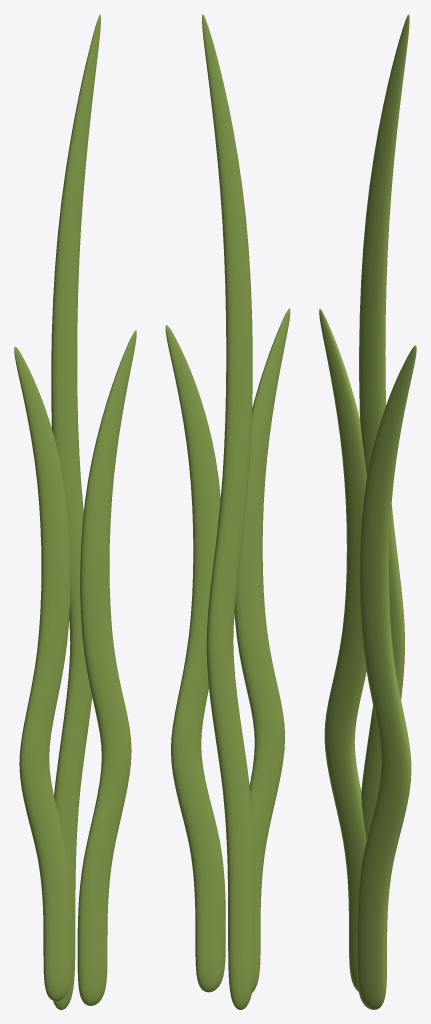
The model's file is kelp3-transformed.glb.
3 renders of one model, left to right at view 1: azimuth 30°, elevation 25°; view 2: azimuth 210°, elevation 25°; view 3: azimuth 330°, elevation 25°, orthographic.
Parts seen in each view (by area): view 1: Cube_0; view 2: Cube_0; view 3: Cube_0.
Part boxes in pixels (x1,y1,x2,y2): Cube_0: (14,14,136,1009); Cube_0: (165,14,290,1009); Cube_0: (319,14,416,1009).
Size of the model in its own units: 2.86 by 24.62 by 0.9304.
Materials: 1 (1 with a texture image).
